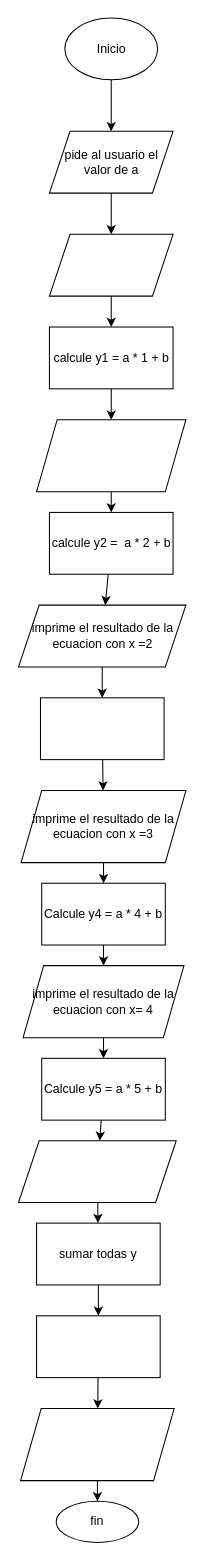
Some shapes in this 204 by 1560 pixel diagram are drawn without their labels. Here are the shapes that lost their labels. From the top down, the box of each, then its label:
(48, 233, 173, 296): pide al usuario el valor de b
(36, 419, 186, 492): Imprime el resultado de la ecuacion con x = 1
(39, 697, 164, 760): calcule y3 = a * 3 + b
(18, 1140, 176, 1203): imprime el resultado de la ecuacion con x= 5
(36, 1315, 160, 1378): calcular el promedio de la y
(20, 1407, 174, 1481): imprimir el promedio de y
